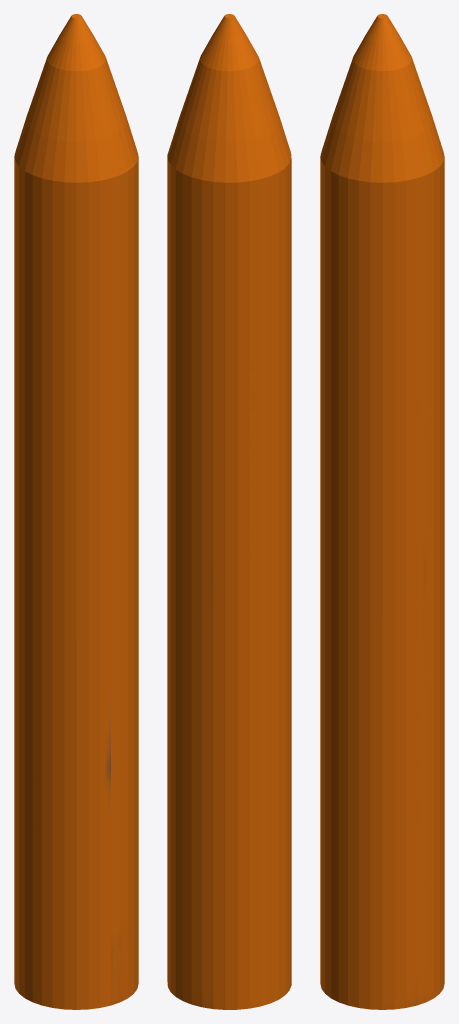
File: Missile.fbx
3 renders of one model, left to right at view 1: azimuth 90°, elevation 25°; view 2: azimuth 210°, elevation 25°; view 3: azimuth 270°, elevation 25°, orthographic.
Visible parts, largest first — view 1: Missile; view 2: Missile; view 3: Missile.
Boxes of the visible parts, x1,y1,x2,y2 form: Missile: [14, 14, 138, 1009]; Missile: [167, 14, 291, 1009]; Missile: [320, 14, 444, 1009].
Size of the model in its own units: 31.98 by 275 by 31.98.
